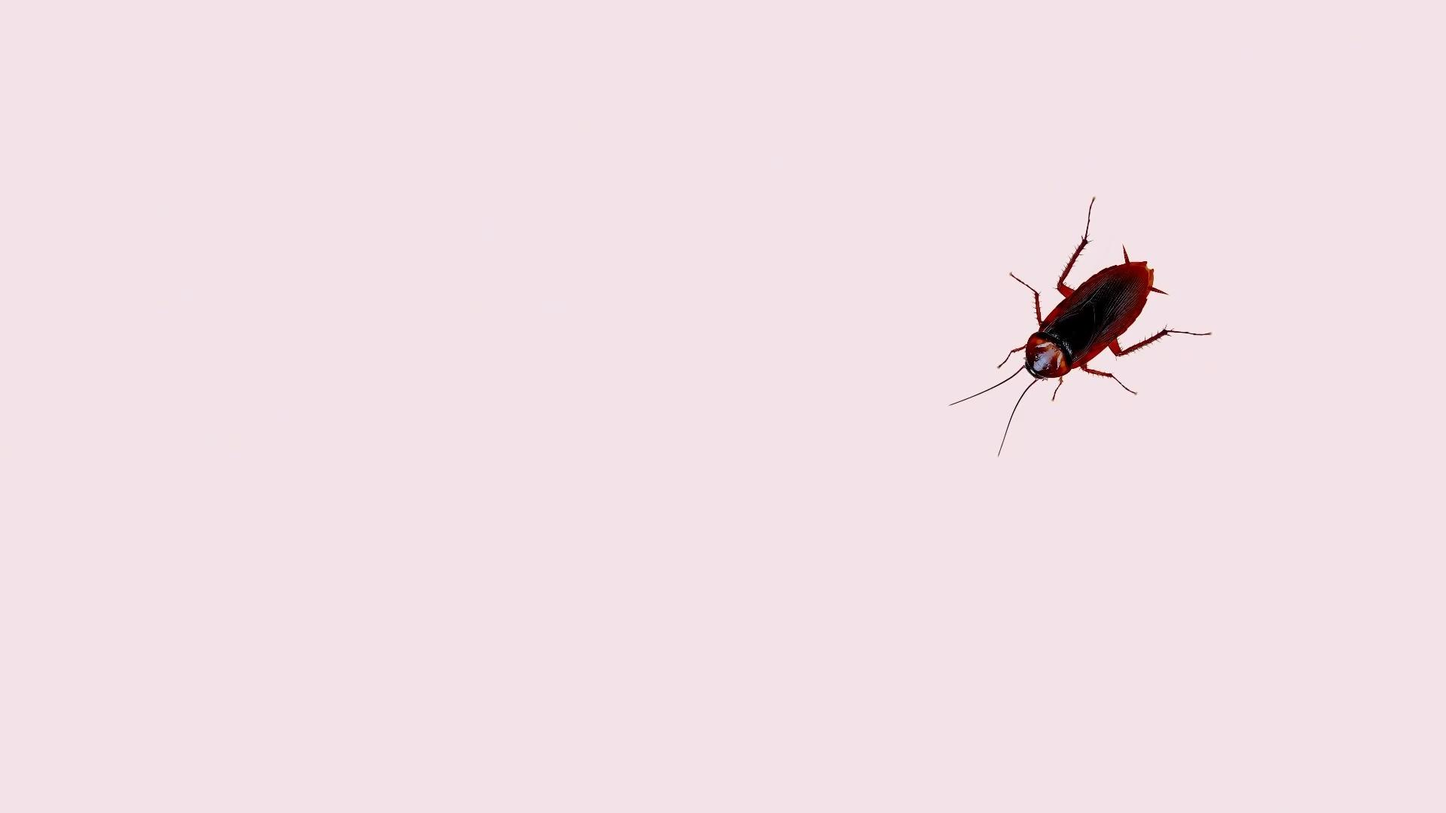cockroach: (930, 202, 1189, 454)
